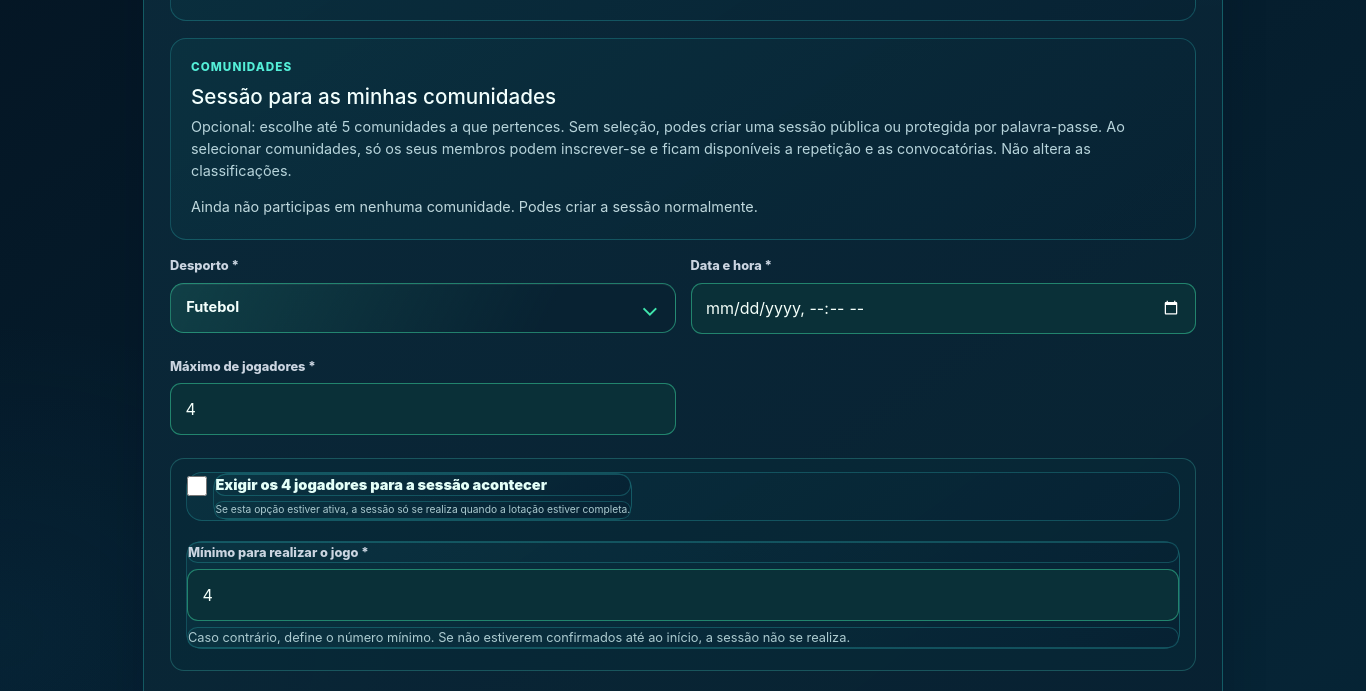
Scenario: Events2Component › searches sports with the premium select and preserves their exact canonical value
The width and height of the screenshot is (1366, 691).
(page scrolled)
Click the dropdown labelled "Futebol ⌄": (213, 307) [170,283,676,333]
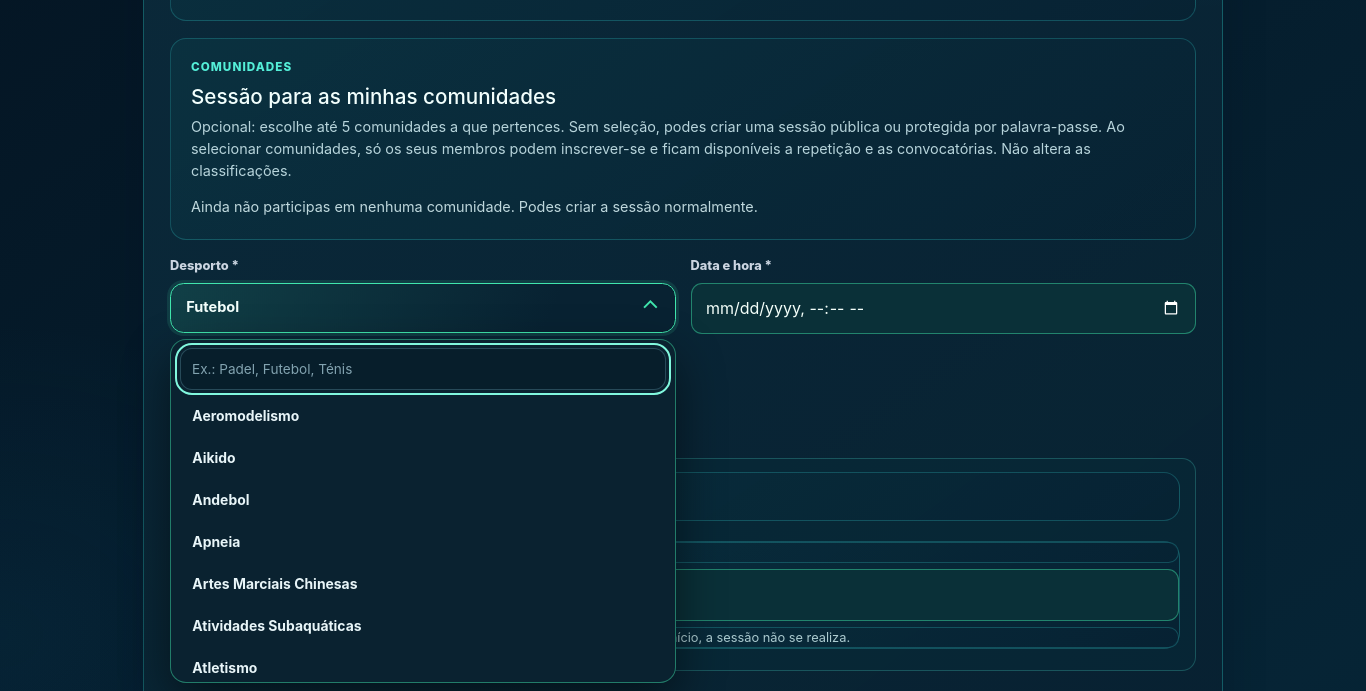
Expected: the search field with placeholder "Ex.: Padel, Futebol, Ténis" is shown
In the search field with placeholder "Ex.: Padel, Futebol, Ténis": (423, 369) [180,348,666,390], type "padel"
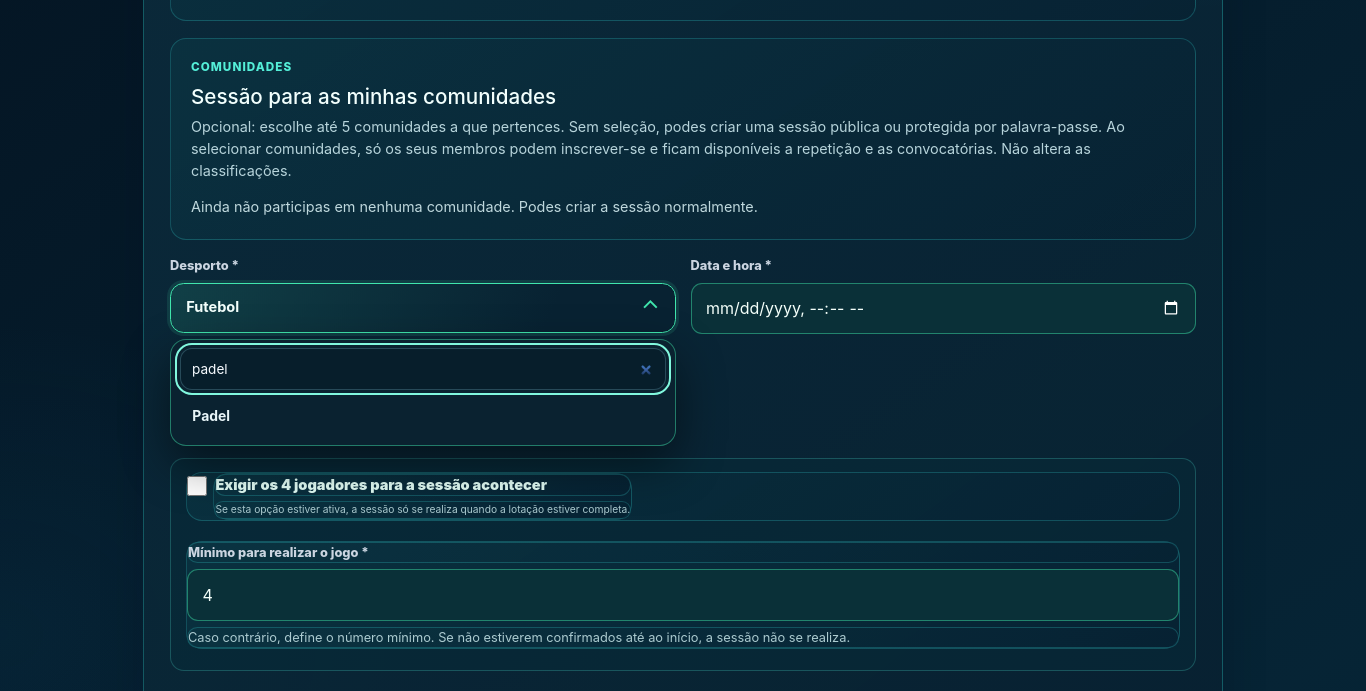
Expected: the number of options is 1
Expected: the option "Padel" is shown
Click the option "Padel": (211, 416) [180,396,666,436]
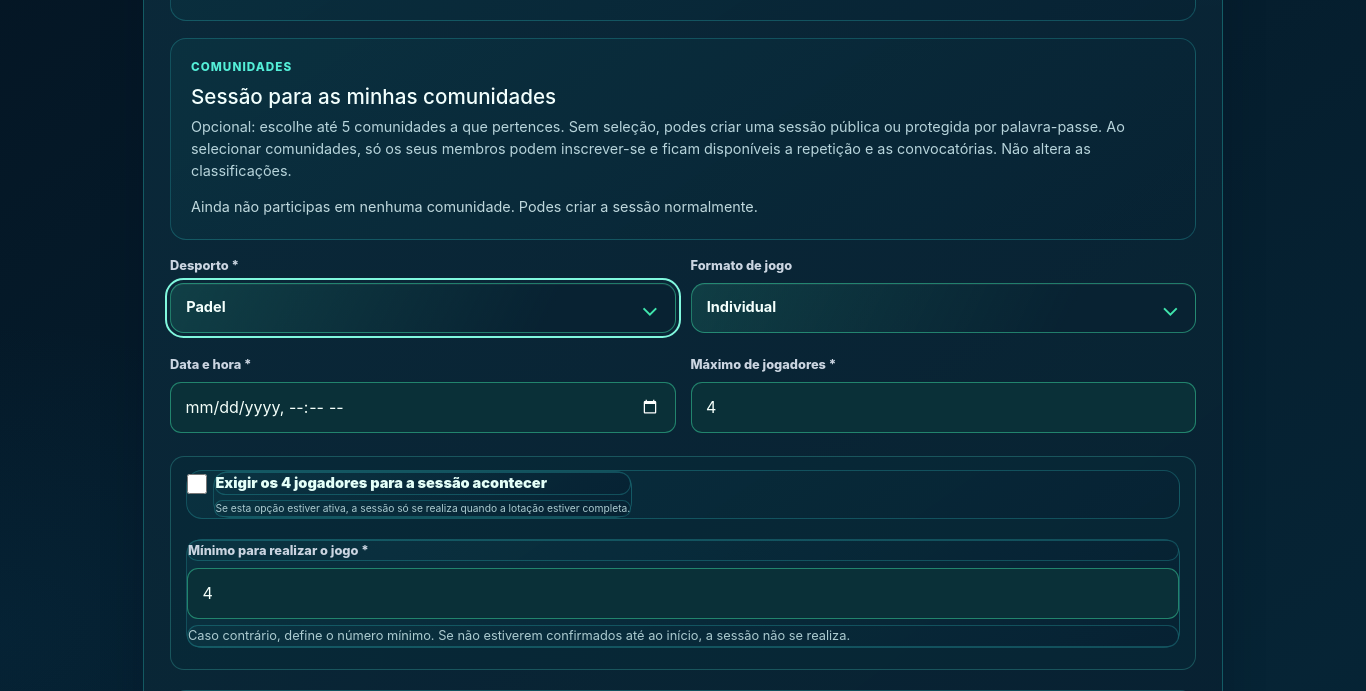
Expected: the text "Padel" is shown, [186,298,226,316]
Expected: the text with class "jynlo-select__value" reads "Padel", [186,298,226,316]
